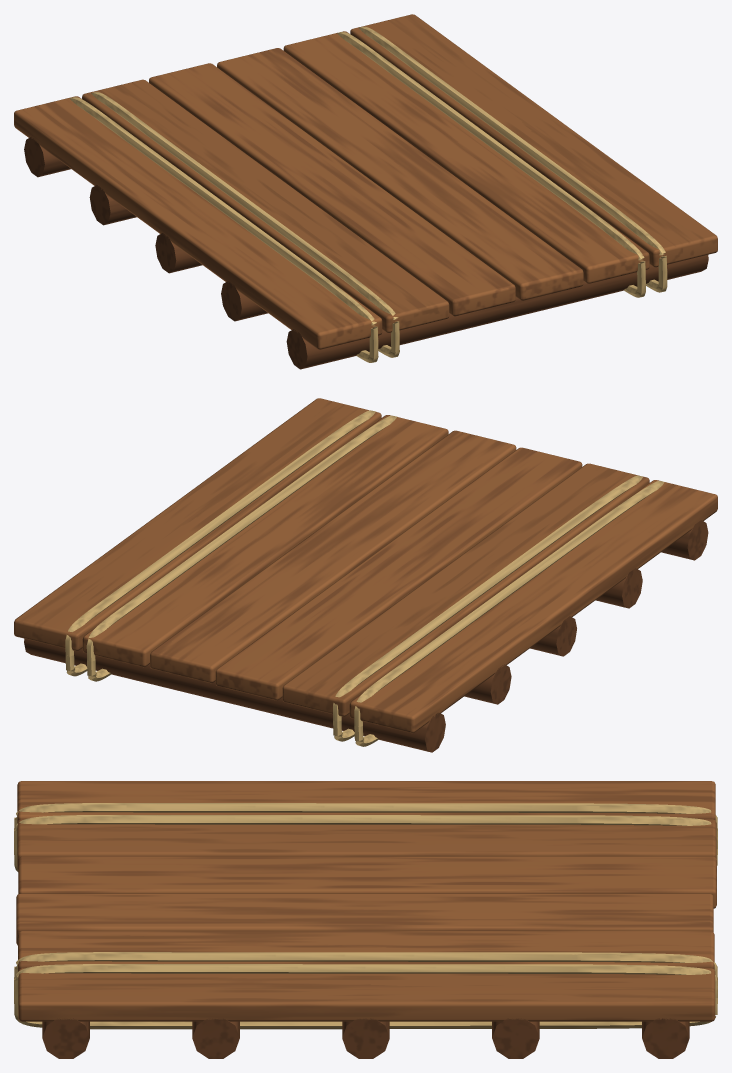
Rendered from CC_G05_RaftPlatform.fbx.
3 views of the same model, one above another, from view 1: azimuth 30°, elevation 25°; view 2: azimuth 150°, elevation 25°; view 3: azimuth 270°, elevation 25° (orthographic). The views are drawn at different scales.
Parts seen in each view (by area): view 1: Logs, Rope; view 2: Logs, Rope; view 3: Logs, Rope.
Part boxes in pixels (<box>): Logs: <box>14,14,717,369</box>; Rope: <box>69,26,667,362</box>; Logs: <box>14,398,717,752</box>; Rope: <box>65,410,664,746</box>; Logs: <box>16,781,716,1058</box>; Rope: <box>14,803,717,1029</box>.
Bounding box in the file's own units: 3 × 0.3914 × 3.99.
